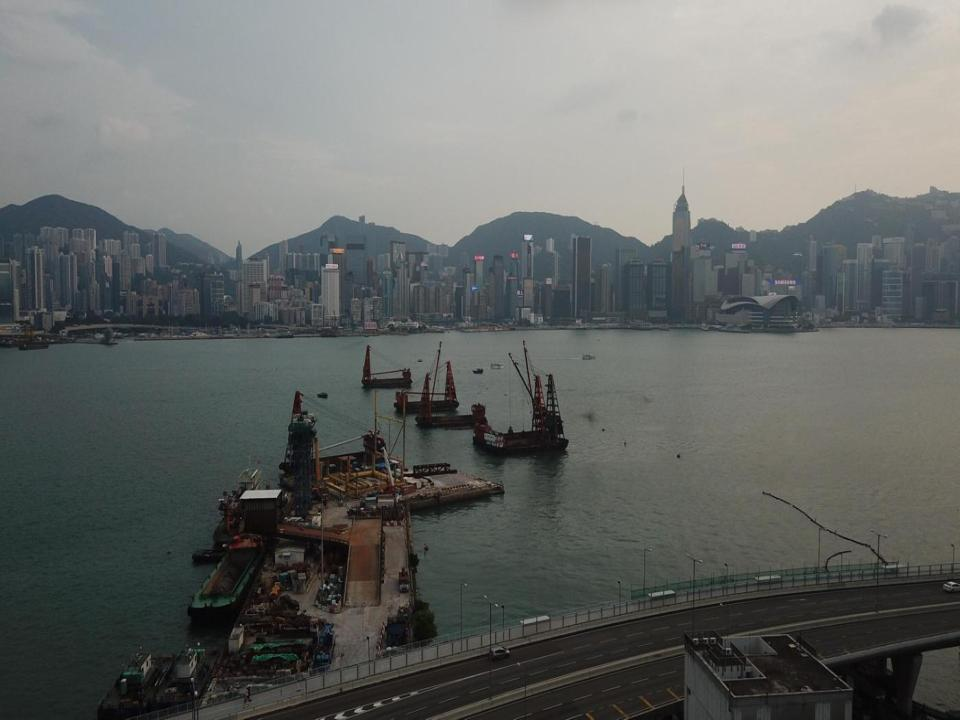car: (489, 645, 509, 660), (943, 581, 960, 593)
truck: (280, 618, 319, 637), (398, 567, 408, 591)
